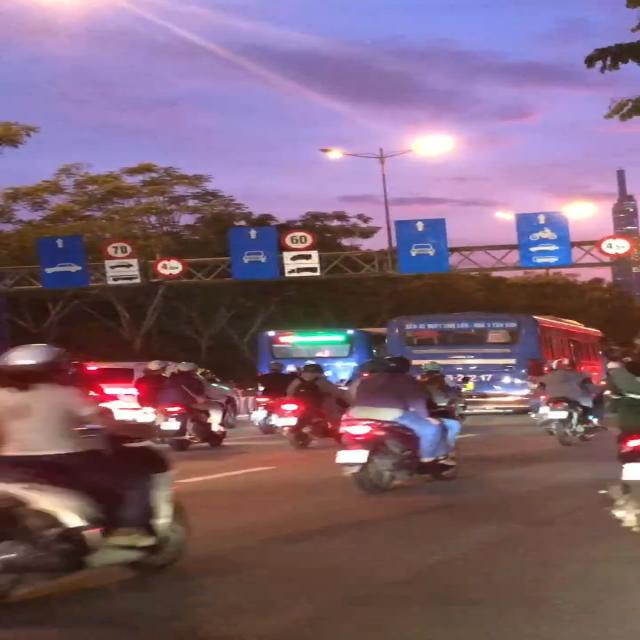Bien bao toc do toi da cho phep: (279, 228, 318, 252), (102, 238, 140, 261)
